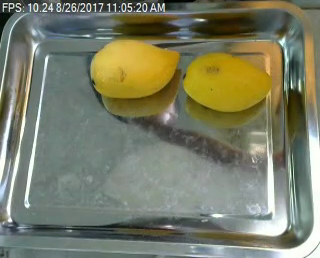Mango: (176, 48, 282, 114), (85, 32, 183, 103)
